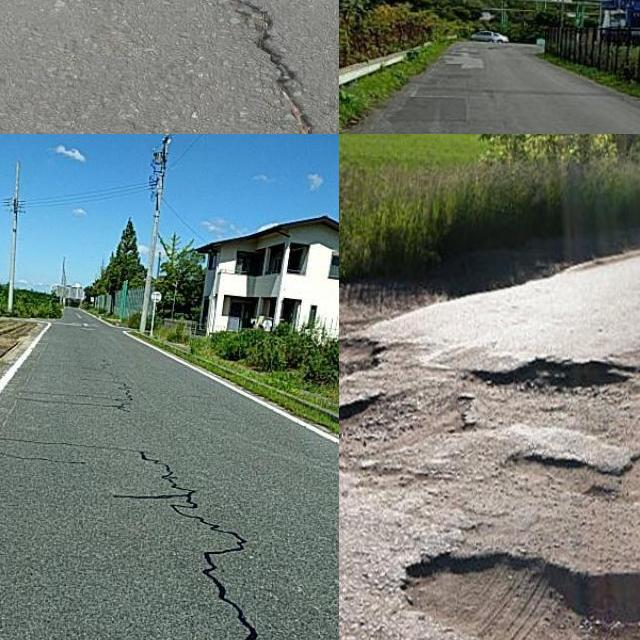Lubang: (394, 549, 640, 640), (467, 360, 640, 426)
Memanjang: (130, 446, 273, 640), (224, 0, 339, 134)
